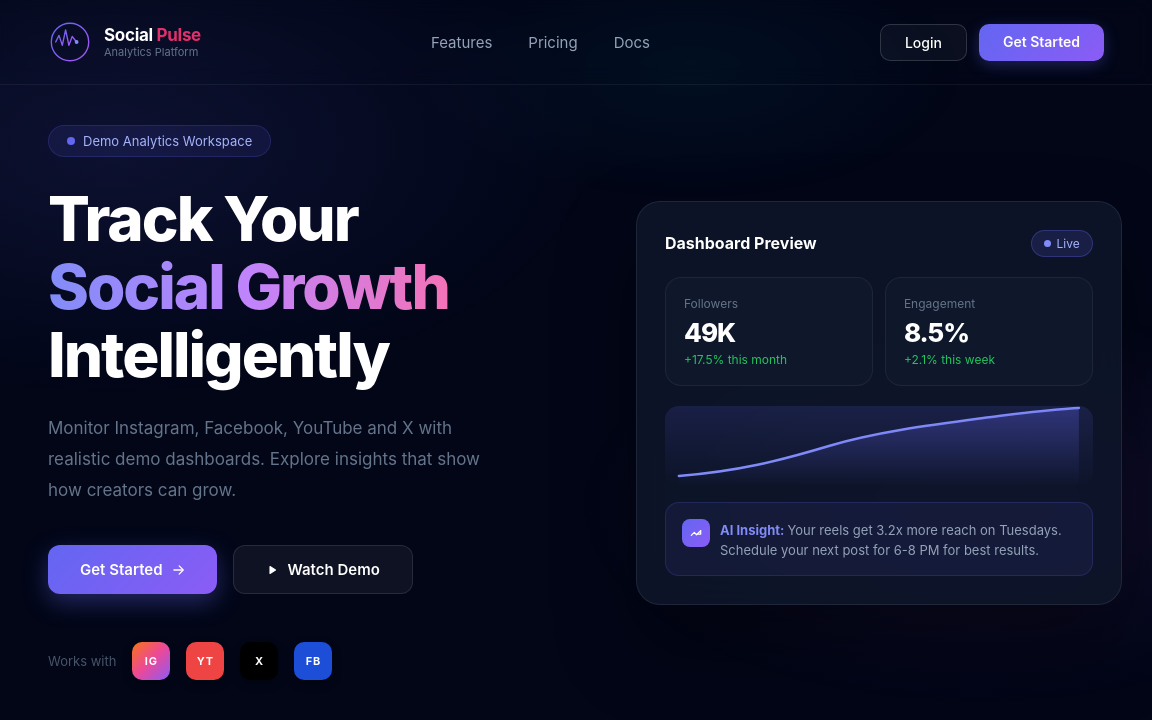
Test: Home › opens and closes the demo flow
The width and height of the screenshot is (1152, 720).
Click the button "Watch Demo". click: (323, 570)
box: [232,545,413,594]
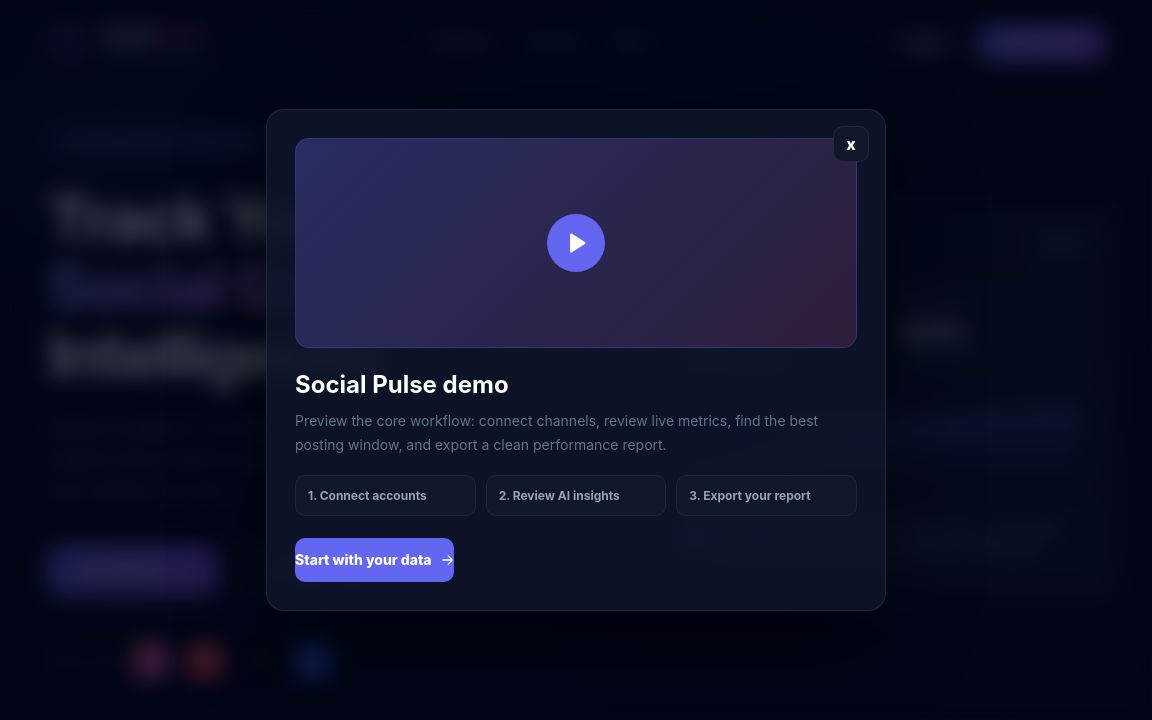
Expected: the dialog "Social Pulse demo" is shown, [266,109,886,611]
Expected: the text "connect channels" is shown, [295,412,818,453]
Click the button named "close demo". click: (851, 144)
box: [833,126,869,162]
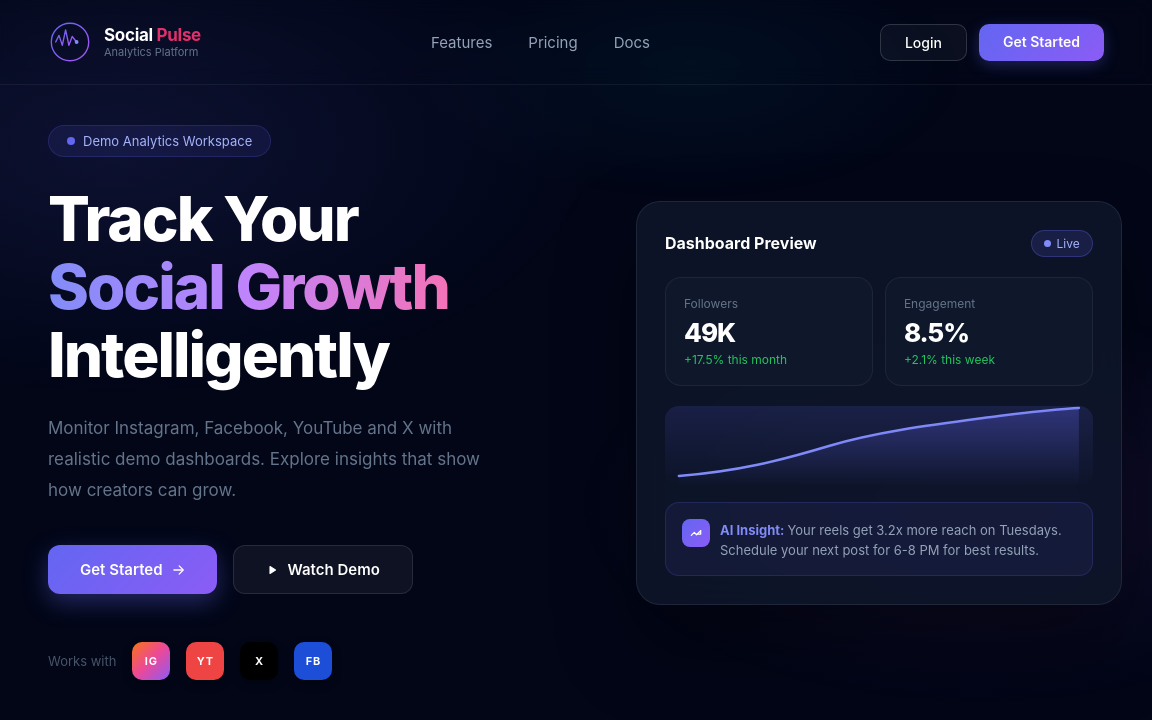
Expected: the heading "Social Pulse demo" is gone
